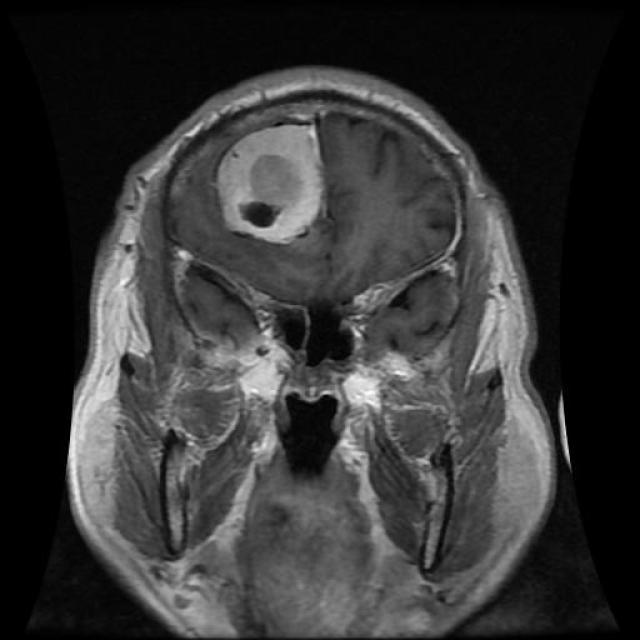meningioma: (219, 125, 321, 244)
